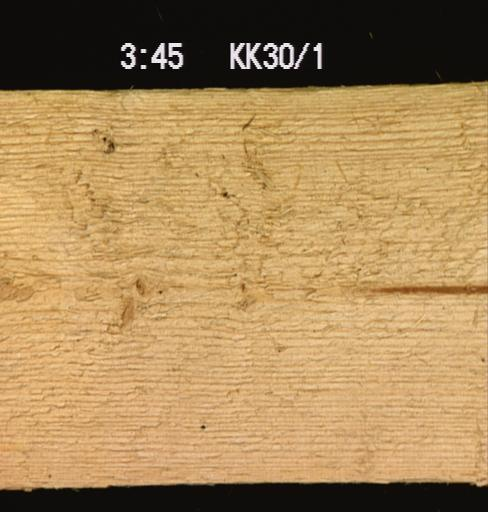small_knot: (90, 125, 115, 153)
